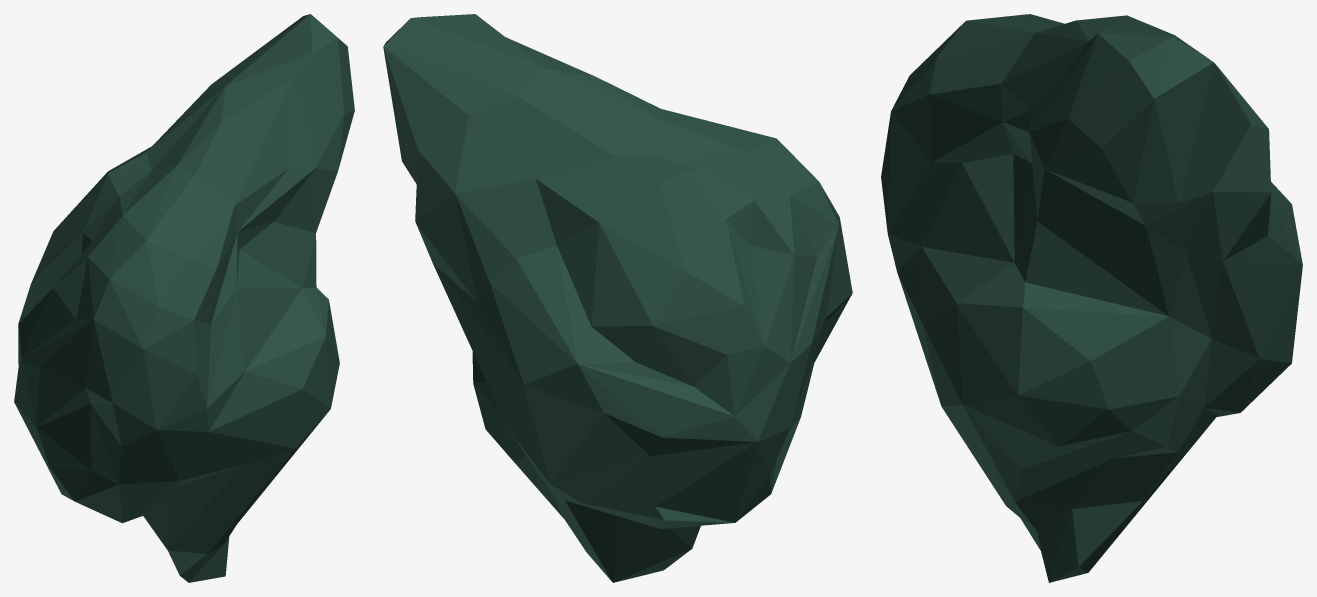
Rendered from SM_large_rock_13.fbx.
3 renders of one model, left to right at view 1: azimuth 30°, elevation 25°; view 2: azimuth 150°, elevation 25°; view 3: azimuth 270°, elevation 25°, orthographic. The views are drawn at different scales.
Visible parts, largest first — view 1: large_rock_13; view 2: large_rock_13; view 3: large_rock_13.
Part boxes in pixels (bbox=[...]): large_rock_13: bbox=[14, 14, 354, 582]; large_rock_13: bbox=[383, 14, 852, 582]; large_rock_13: bbox=[881, 14, 1302, 582].
Bounding box in the file's own units: 55.58 × 76.27 × 46.35.
